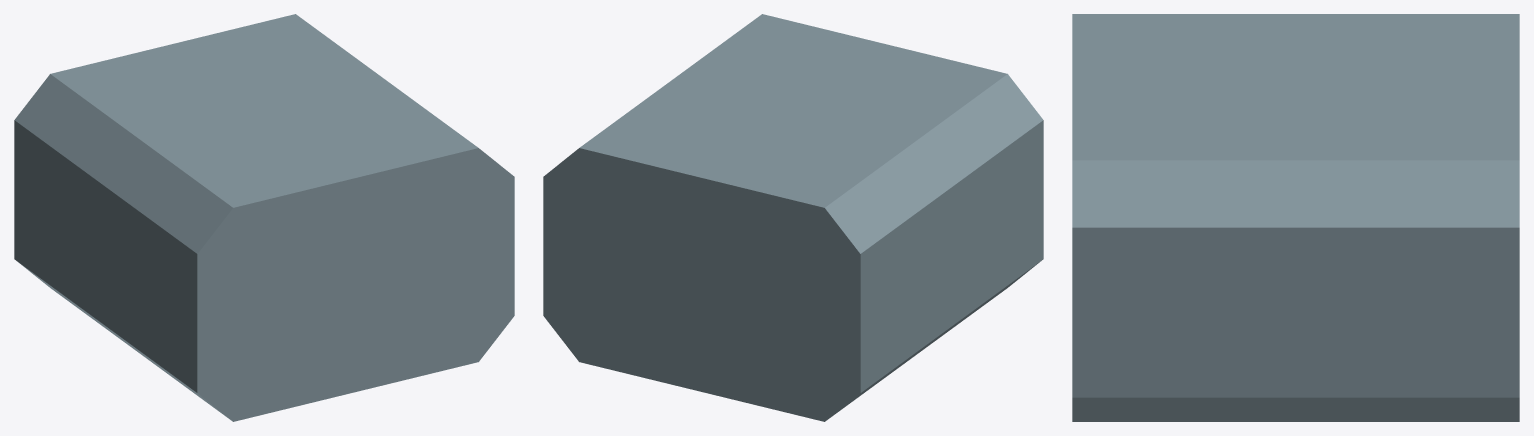
The model's file is City_Streetlight_4m_Foundation.glb.
3 renders of one model, left to right at view 1: azimuth 30°, elevation 25°; view 2: azimuth 150°, elevation 25°; view 3: azimuth 270°, elevation 25°, orthographic. The views are drawn at different scales.
Parts seen in each view (by area): view 1: City_Streetlight_4m_Foundation; view 2: City_Streetlight_4m_Foundation; view 3: City_Streetlight_4m_Foundation.
Part boxes in pixels (x1,y1,x2,y2): City_Streetlight_4m_Foundation: (14, 14, 514, 421); City_Streetlight_4m_Foundation: (543, 14, 1043, 421); City_Streetlight_4m_Foundation: (1072, 14, 1519, 421).
Size of the model in its own units: 0.62 by 0.4 by 0.62.
